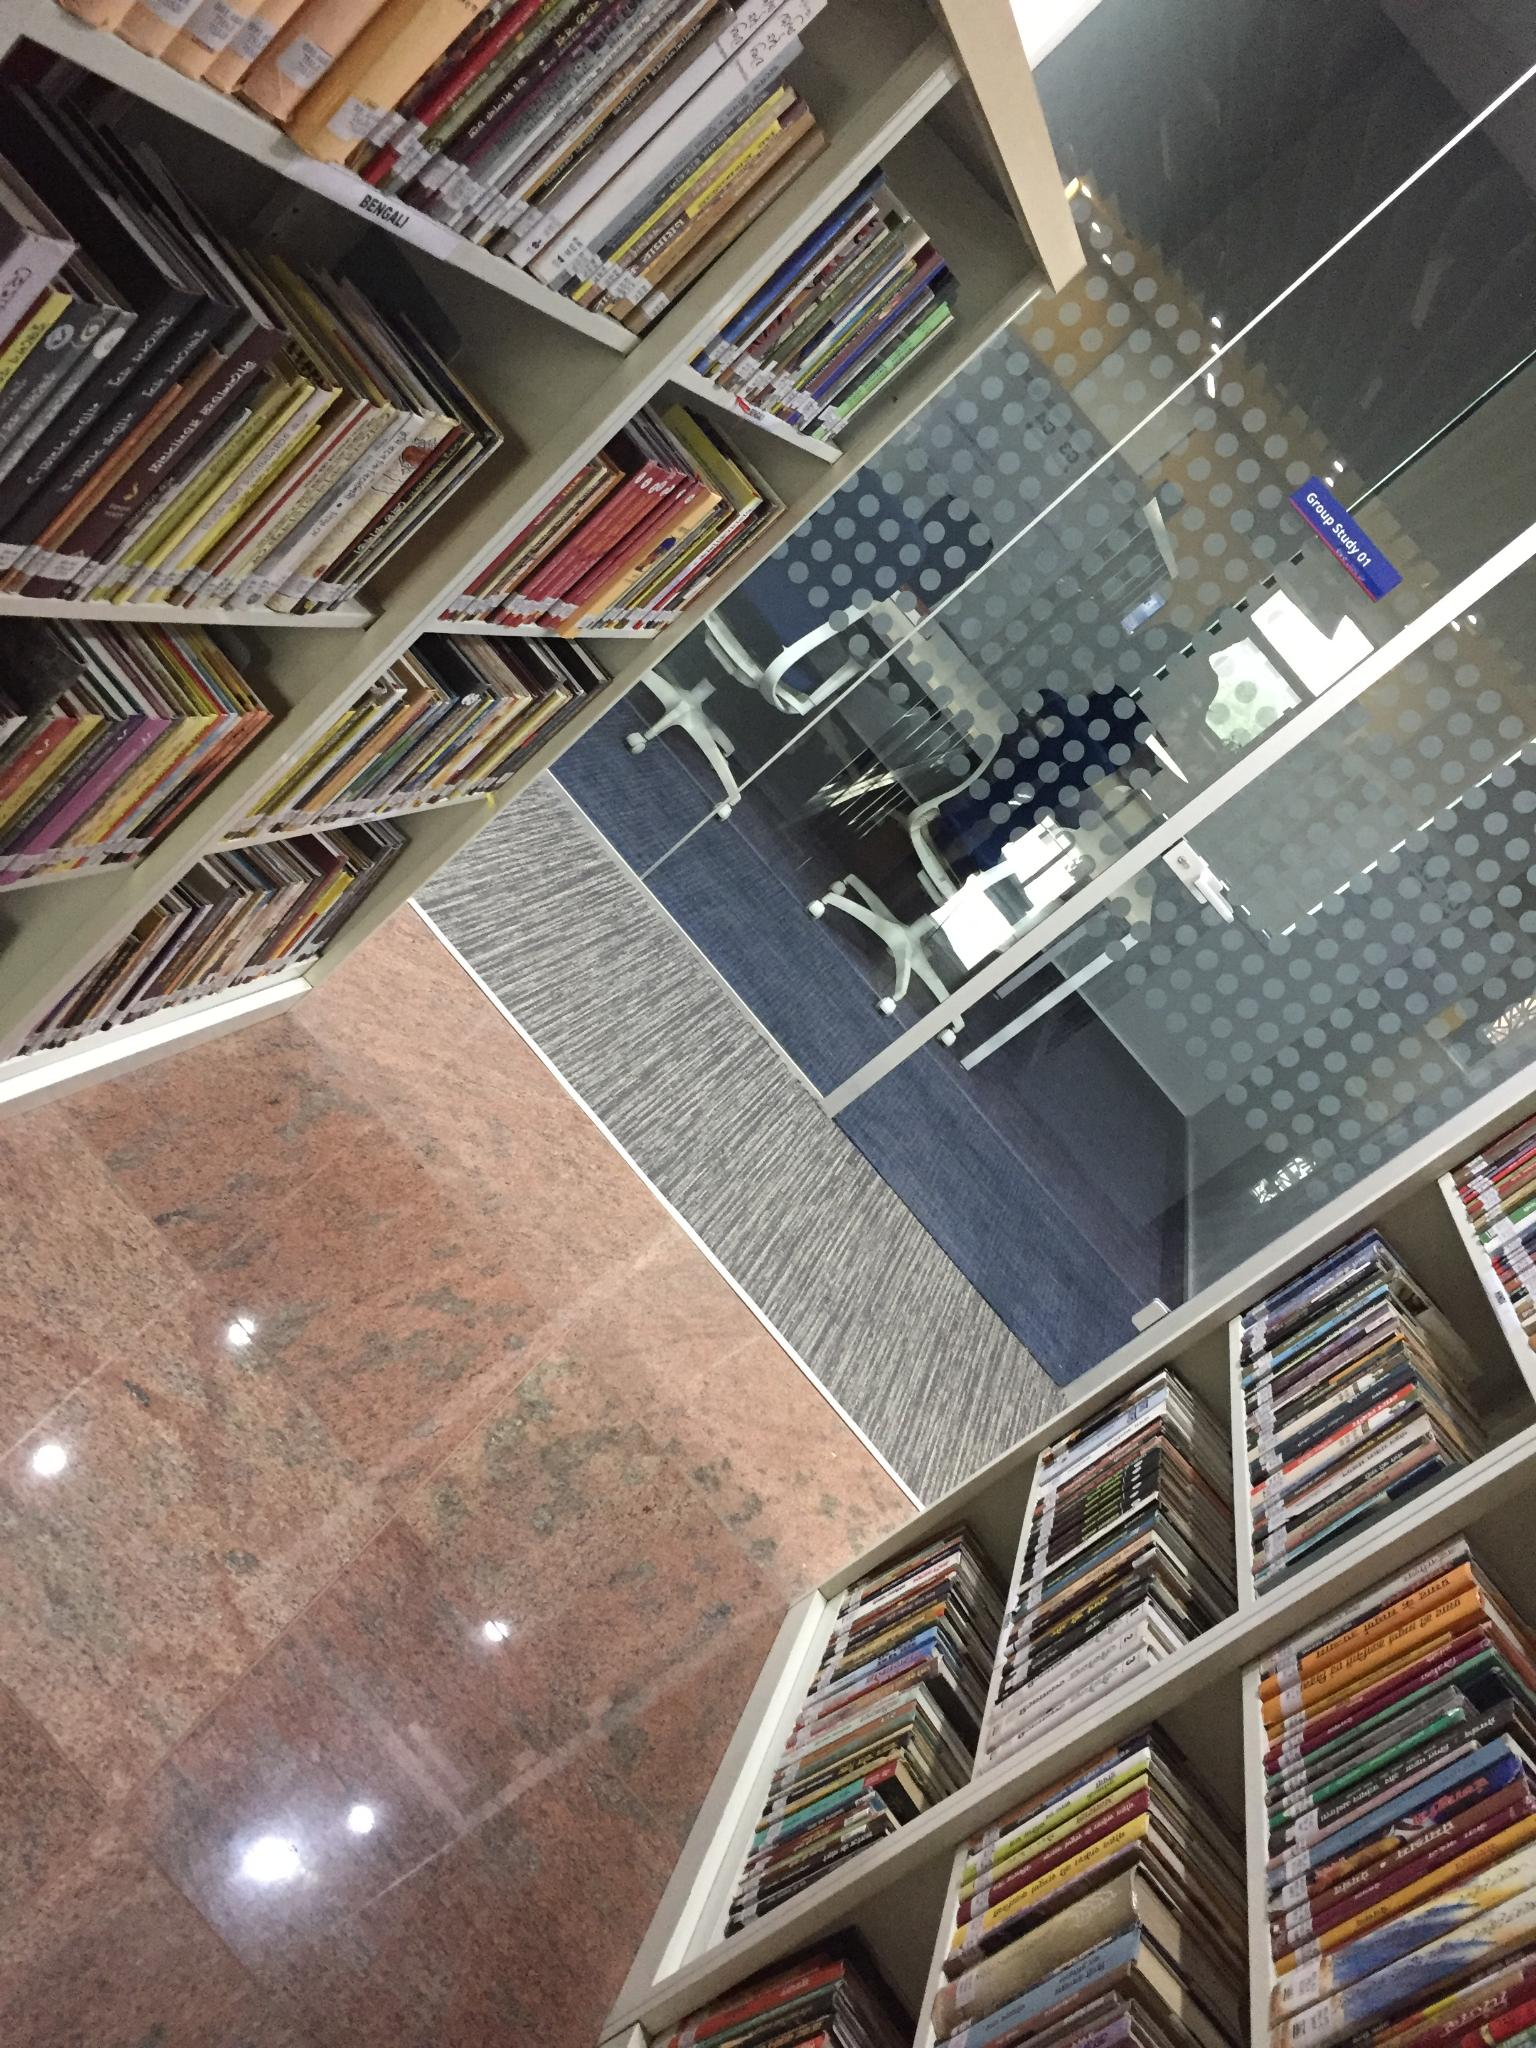chair: (837, 701, 1149, 1059), (623, 458, 895, 827), (897, 484, 1025, 614), (1055, 697, 1221, 797)
